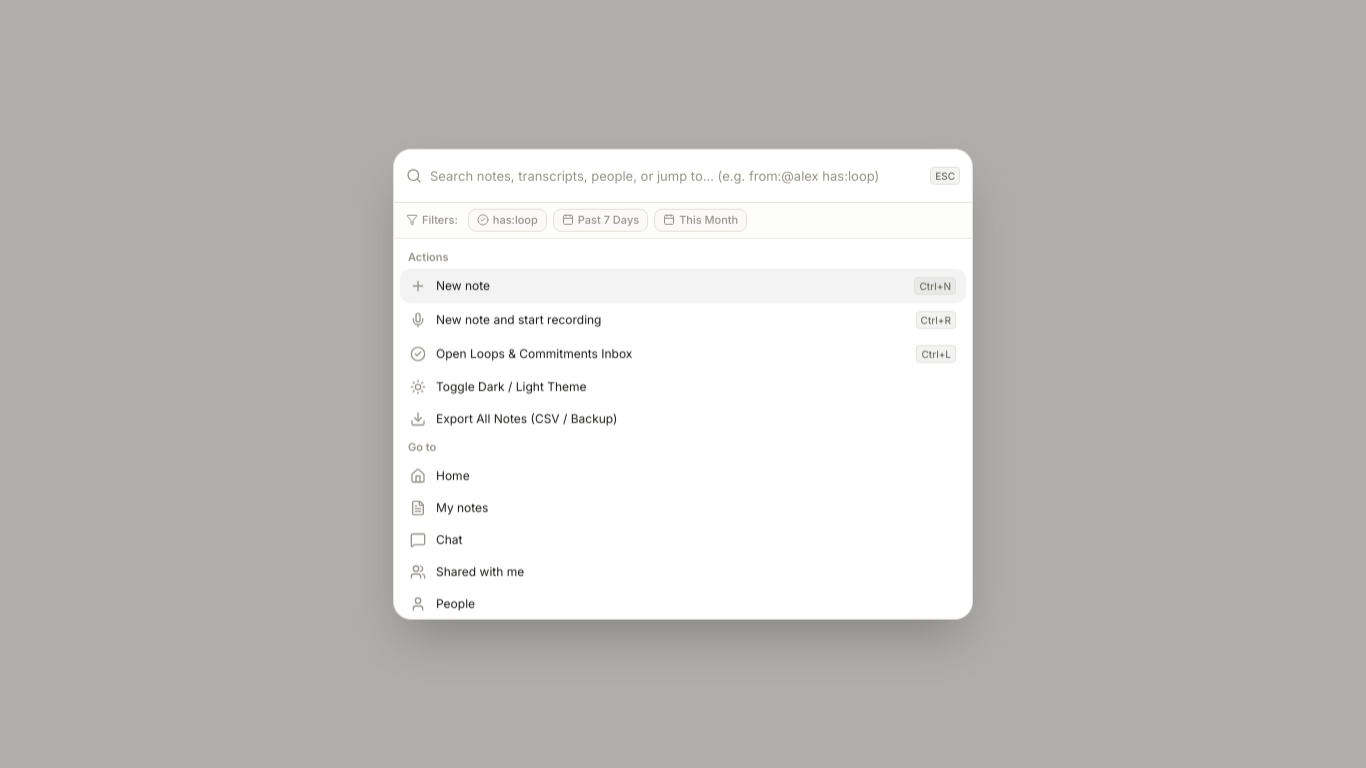
Test: CommandPalette › displays matched people section in search results
Step 1. Replace the text in the dropdown with placeholder "Search notes, transcripts, people" with "alex" → [676, 176], box [430,154,922,198]
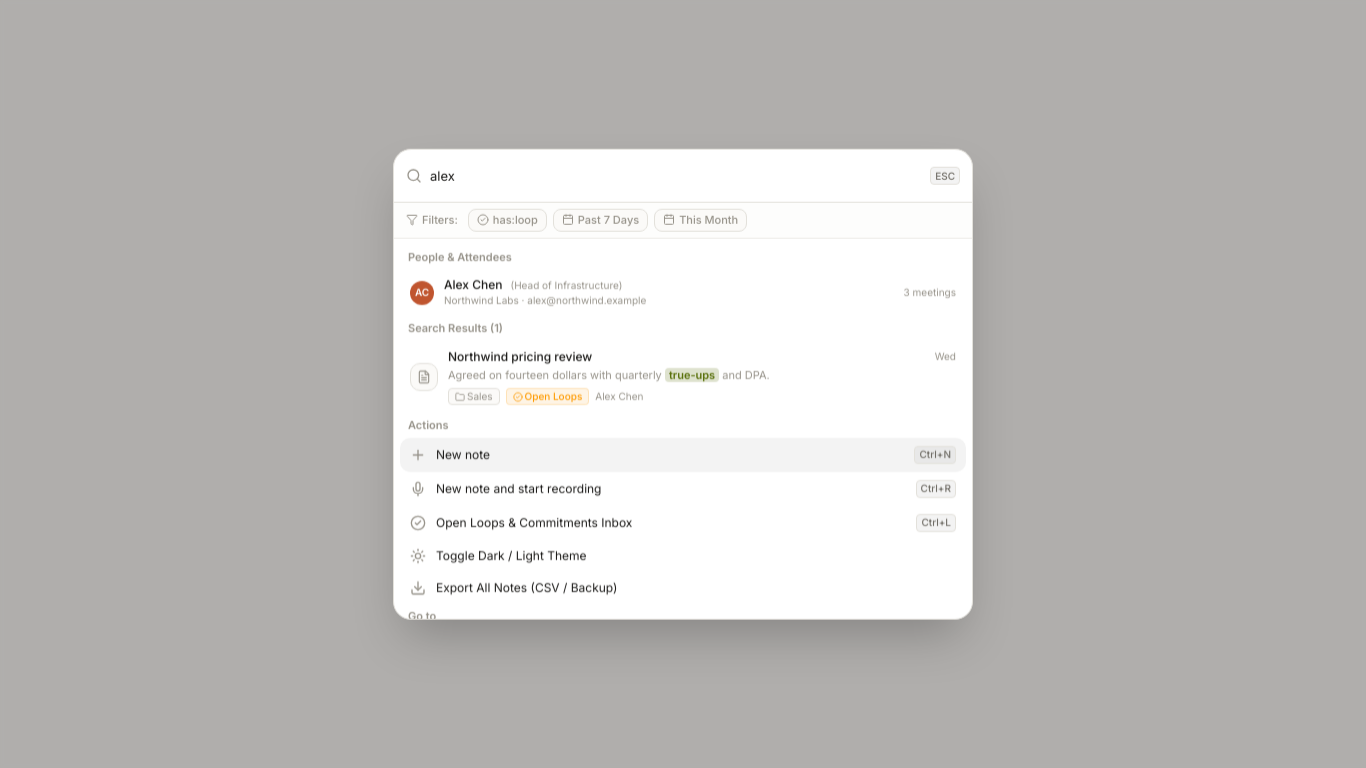
Now the text "People & Attendees" is shown, box [408,249,512,263]
Now the text "(Head of Infrastructure)" is shown, box [510,277,622,292]
